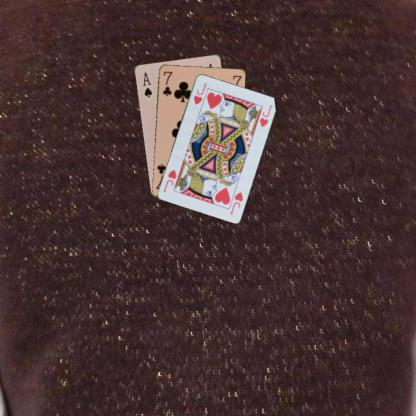7c: (160, 69, 173, 97)
As: (140, 70, 153, 98)
Jh: (191, 80, 208, 106), (228, 189, 244, 215)
